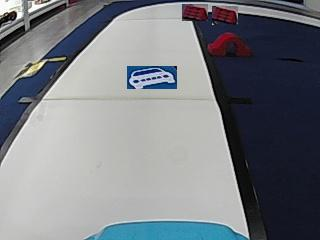bridge: (207, 31, 253, 56)
